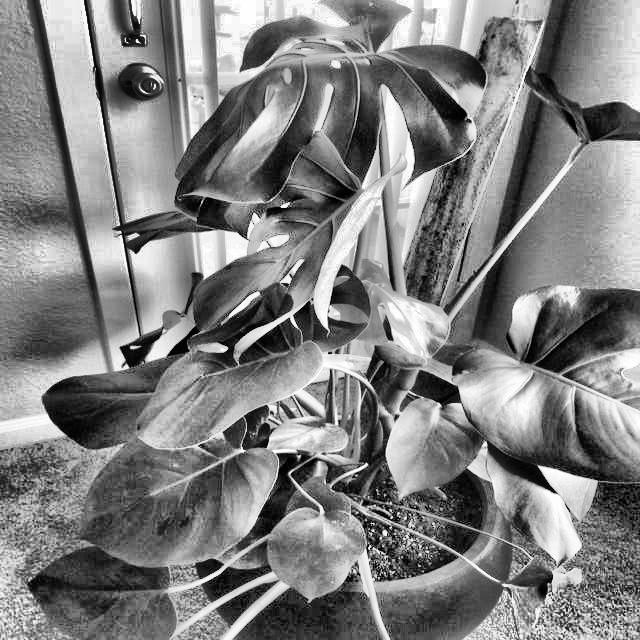plants: (73, 29, 639, 635), (74, 437, 267, 574), (374, 390, 494, 502)
